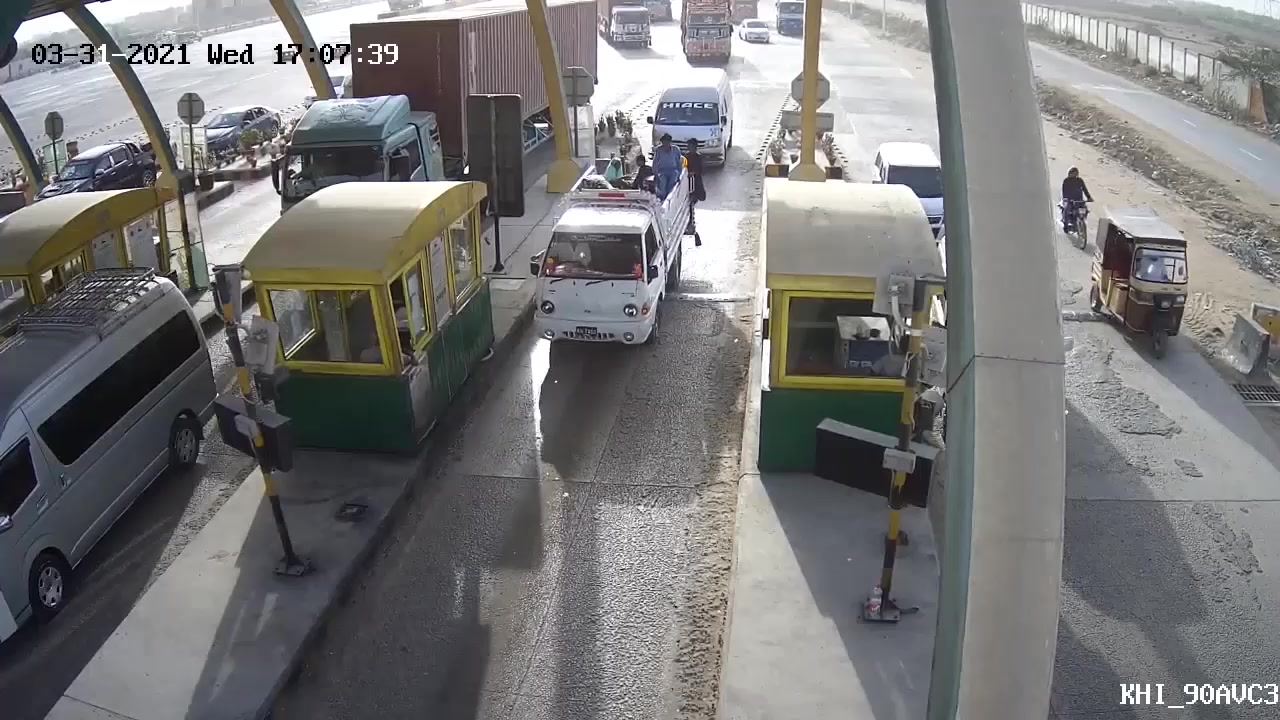F3: (511, 146, 699, 360)
